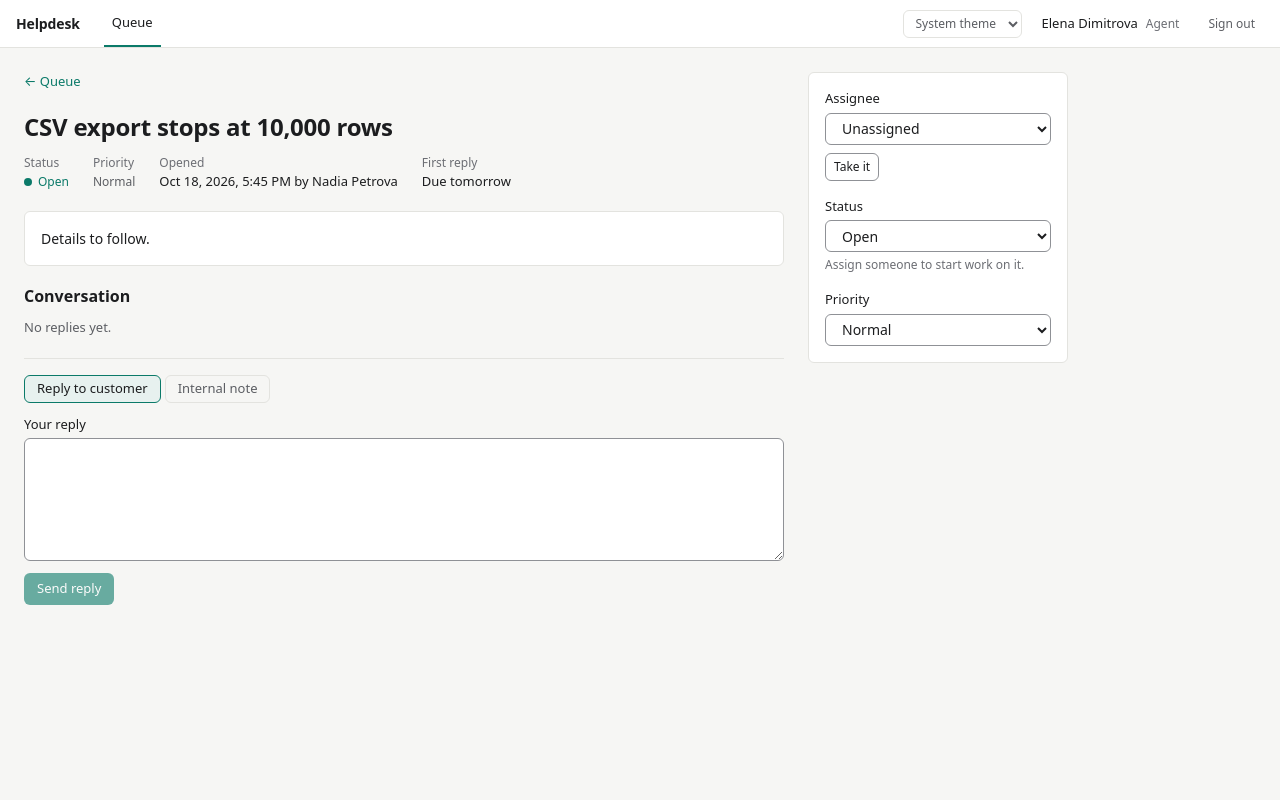
Test: a ticket, worked by staff › explains and reloads when someone else changed the ticket first
Select "Urgent" in the dropdown labelled "Priority": [938, 330] box 825,314 -> 1051,346
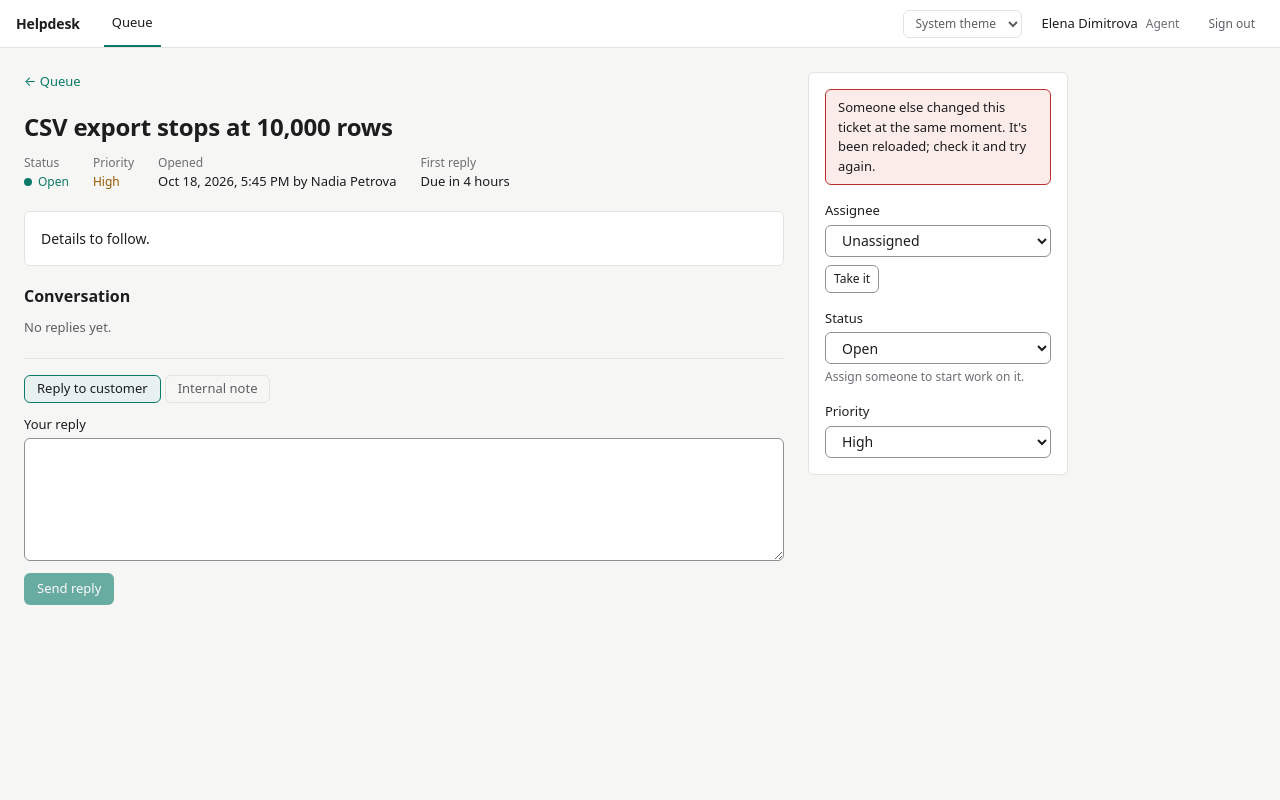
Expected: the message shows "Someone else changed this ticket at the same moment.", 838,98 -> 1027,174
